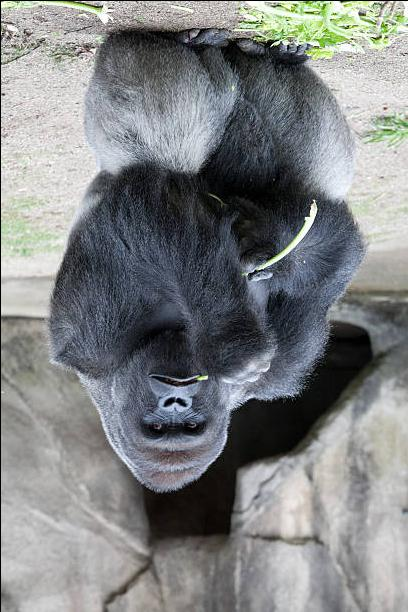goriile_montagne: (34, 29, 358, 535)
